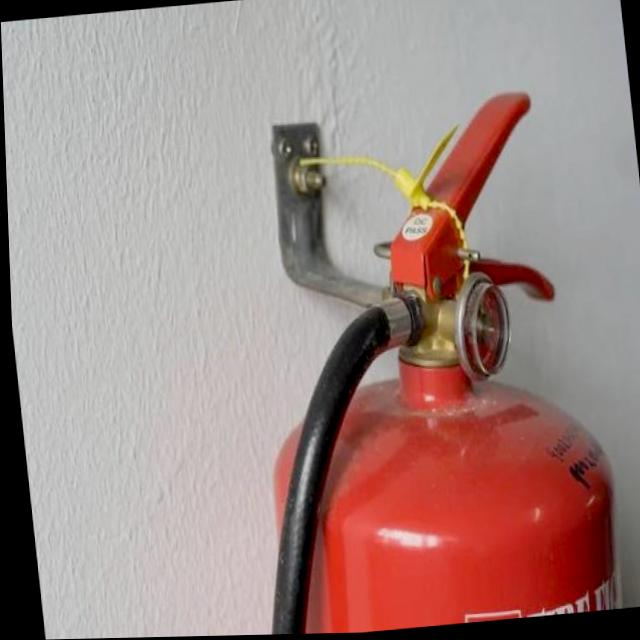FireExtinguisher: (206, 79, 628, 636)
